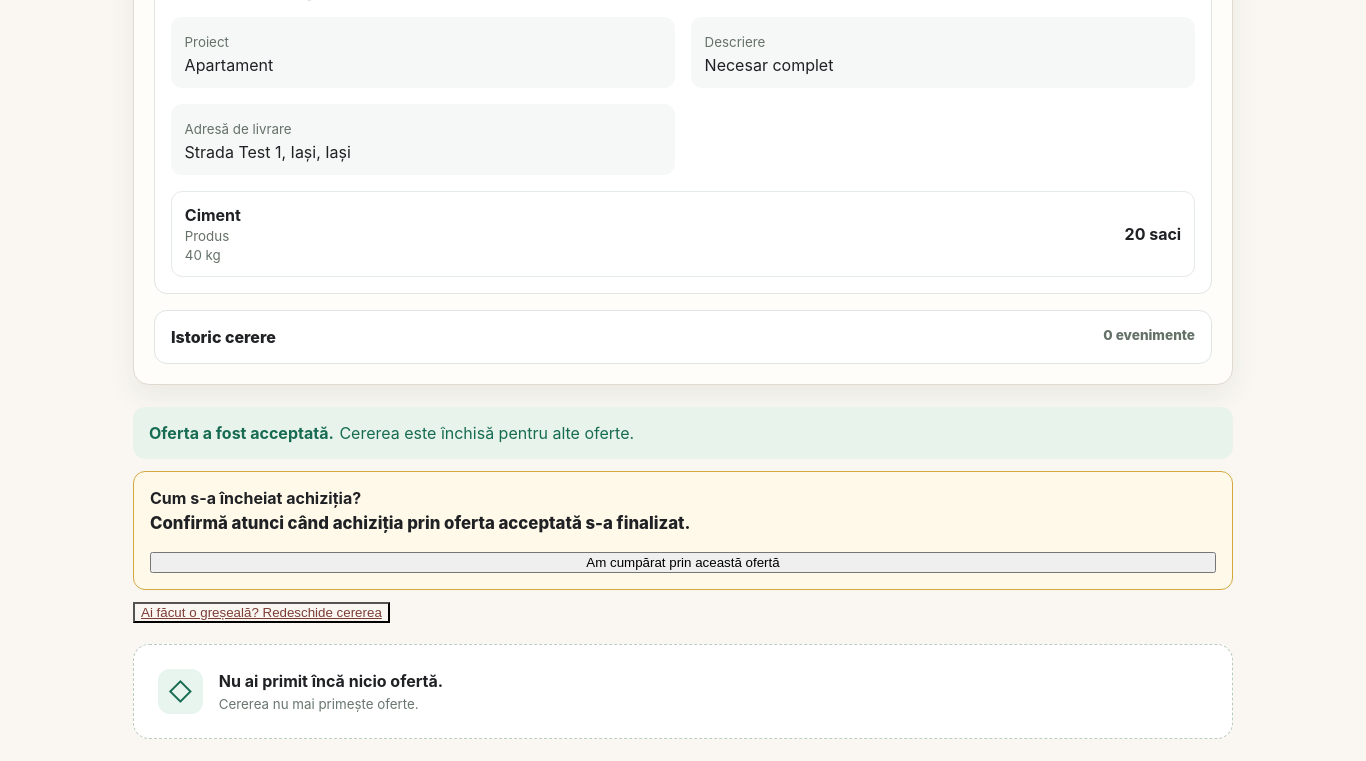
BuyerOfferComparisonComponent › integrates purchase confirmation into the selected-offer decision
(page scrolled)
Click the button "Am cumpărat prin această ofertă": [683, 562] box [150, 552, 1216, 573]
(page scrolled)
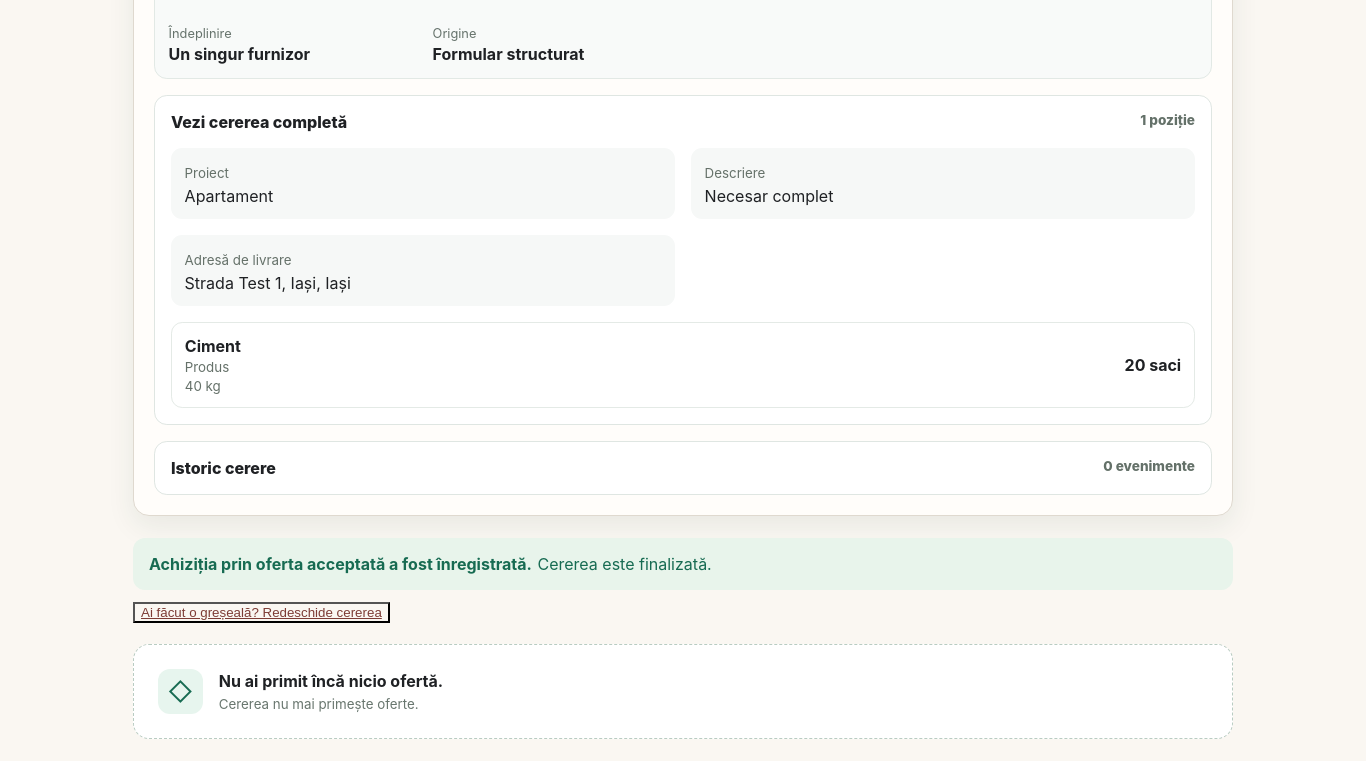
Check: the element with class "decision" shows "Achiziția prin oferta acceptată a fost înregistrată.", box [149, 554, 532, 574]
